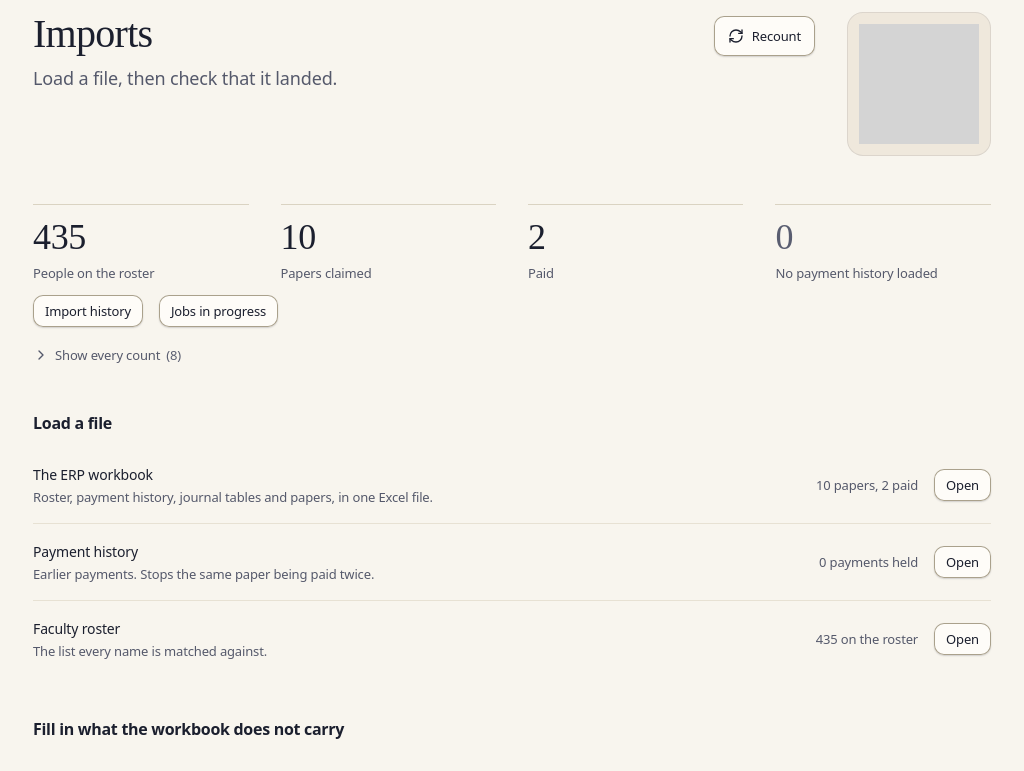
it: the publication harvest (super admin) › answers first, and opens each importer only on request
Expected: the text "People on the roster" is shown, [33, 264, 154, 282]
Click the button with aria-label "Faculty roster" at [963, 639], box [934, 623, 991, 655]
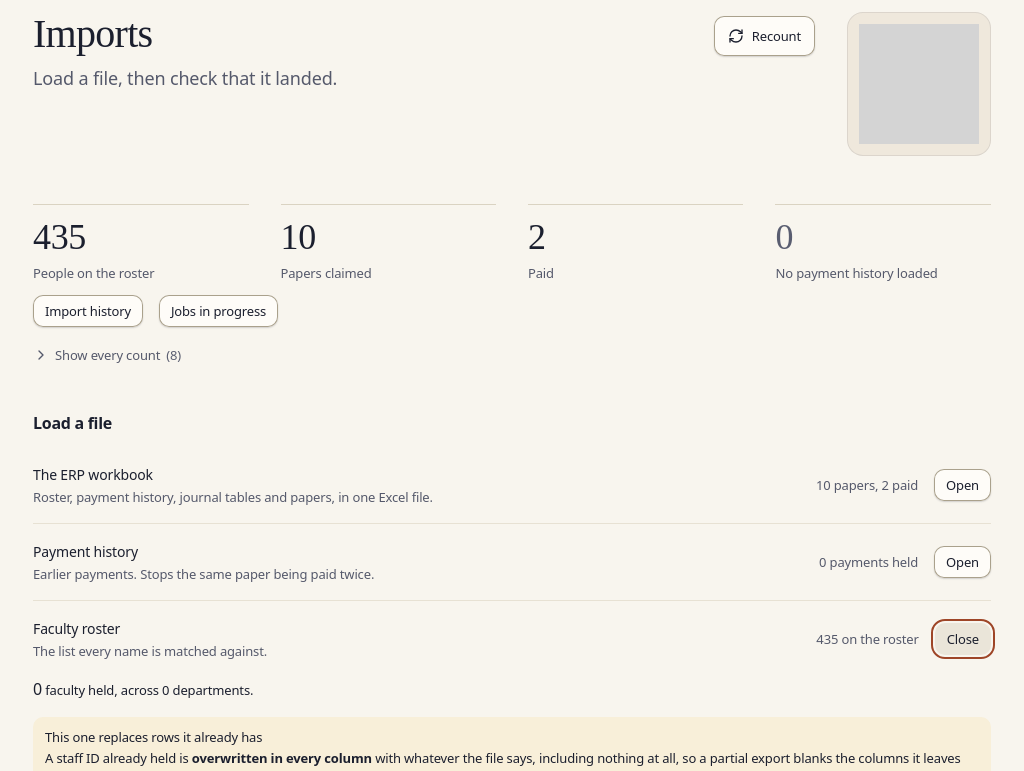
Now the text "This one replaces rows it already has" is shown, box [45, 728, 262, 746]
